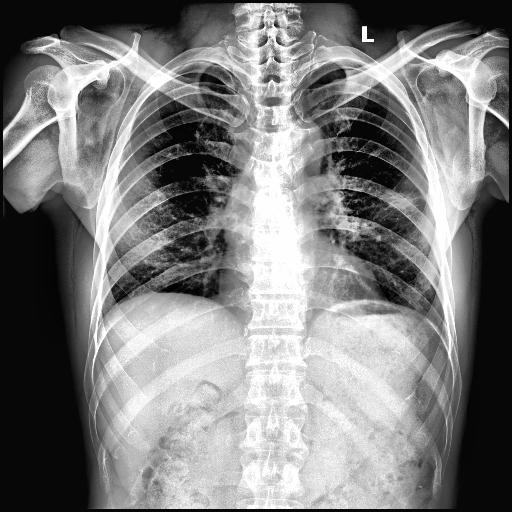13- Pulmonary fibrosis: (371, 188, 427, 208), (382, 188, 430, 210)
6- Infiltration: (384, 188, 425, 212)
7- Lung Opacity: (384, 188, 425, 212)
